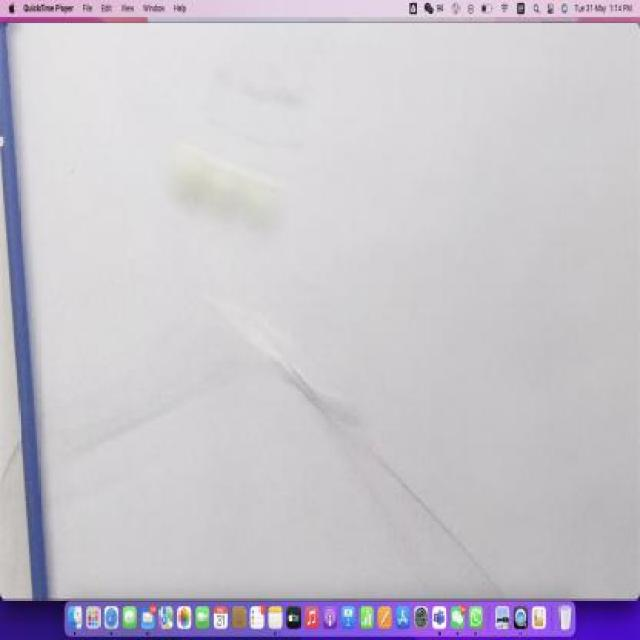baseball: (175, 151, 268, 229)
